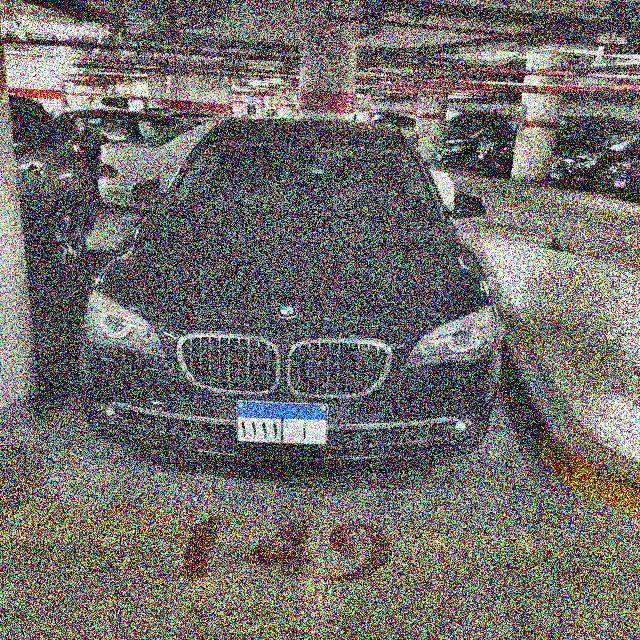License Plate: (235, 400, 329, 446)
